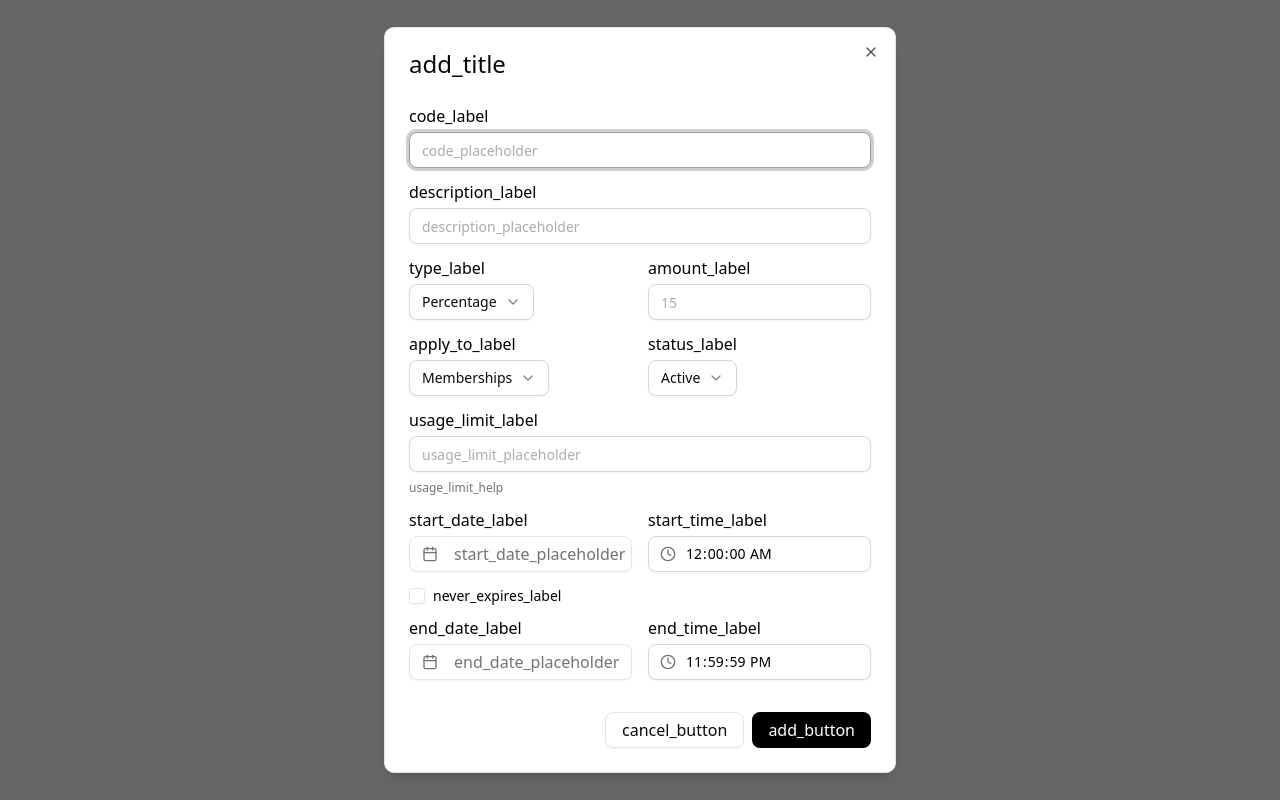
Test: AddEditCouponModal › Form validation › should show validation error when amount is empty
# Fill in other fields but leave amount empty
In the field with test id "coupon-code-input": (640, 150) top-left (409, 132), bottom-right (871, 168), type "CODE123"
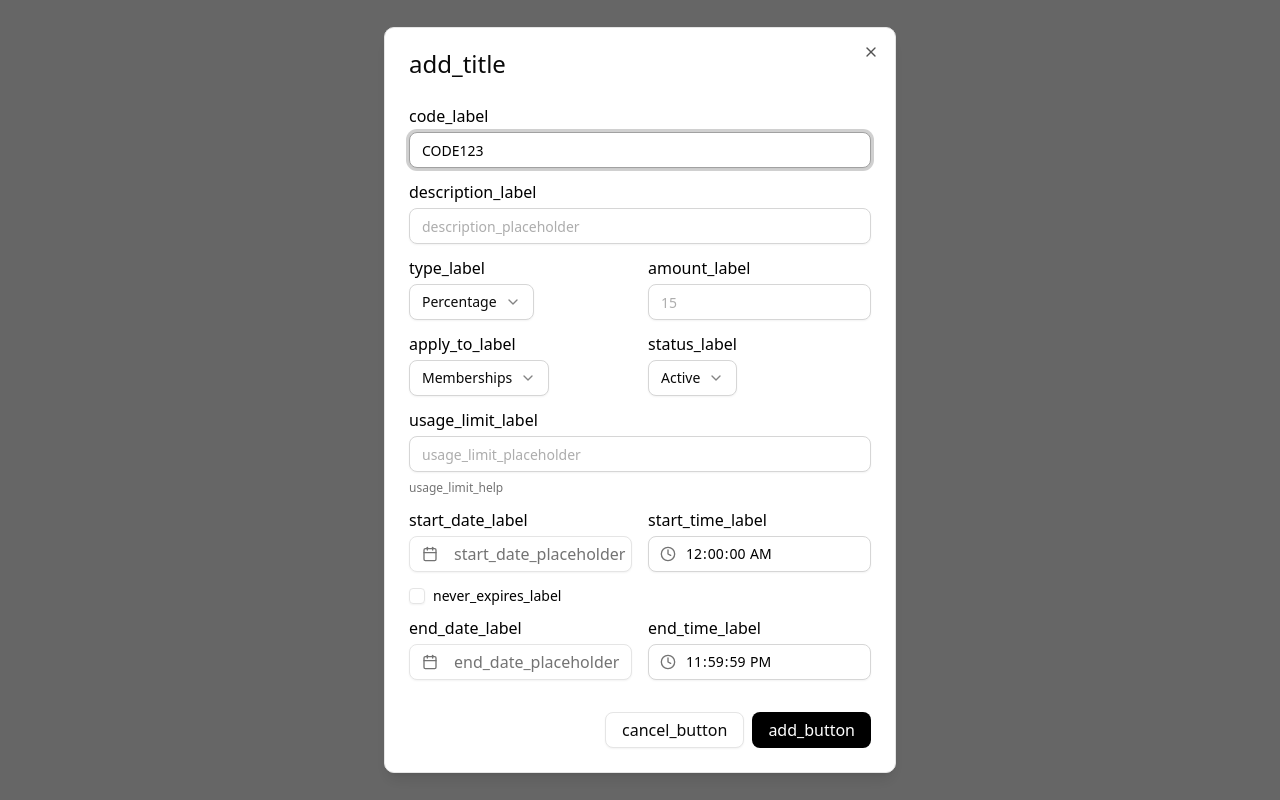
In the field with test id "coupon-description-input": (640, 226) top-left (409, 208), bottom-right (871, 244), type "Description"
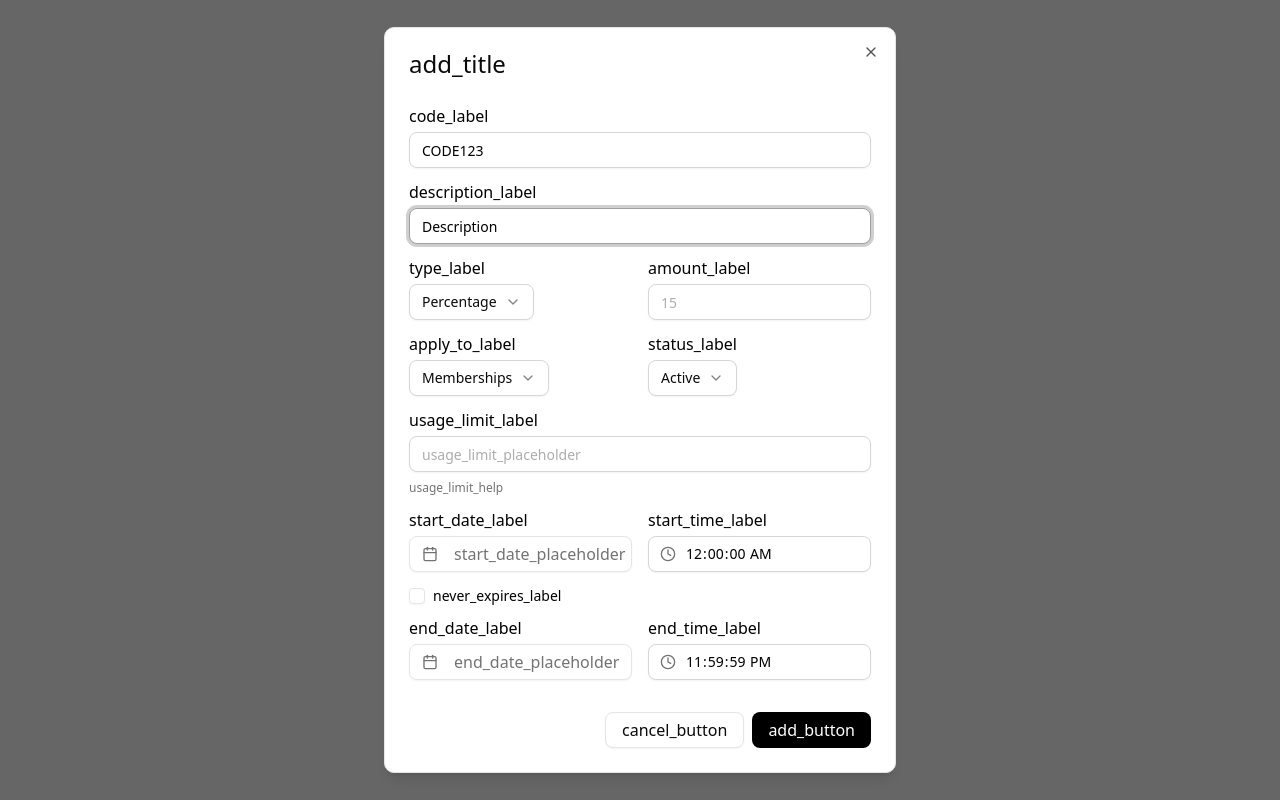
# Check never expires to skip end date validation
Click the checkbox with test id "coupon-never-expires-checkbox": (417, 596) top-left (409, 588), bottom-right (425, 604)
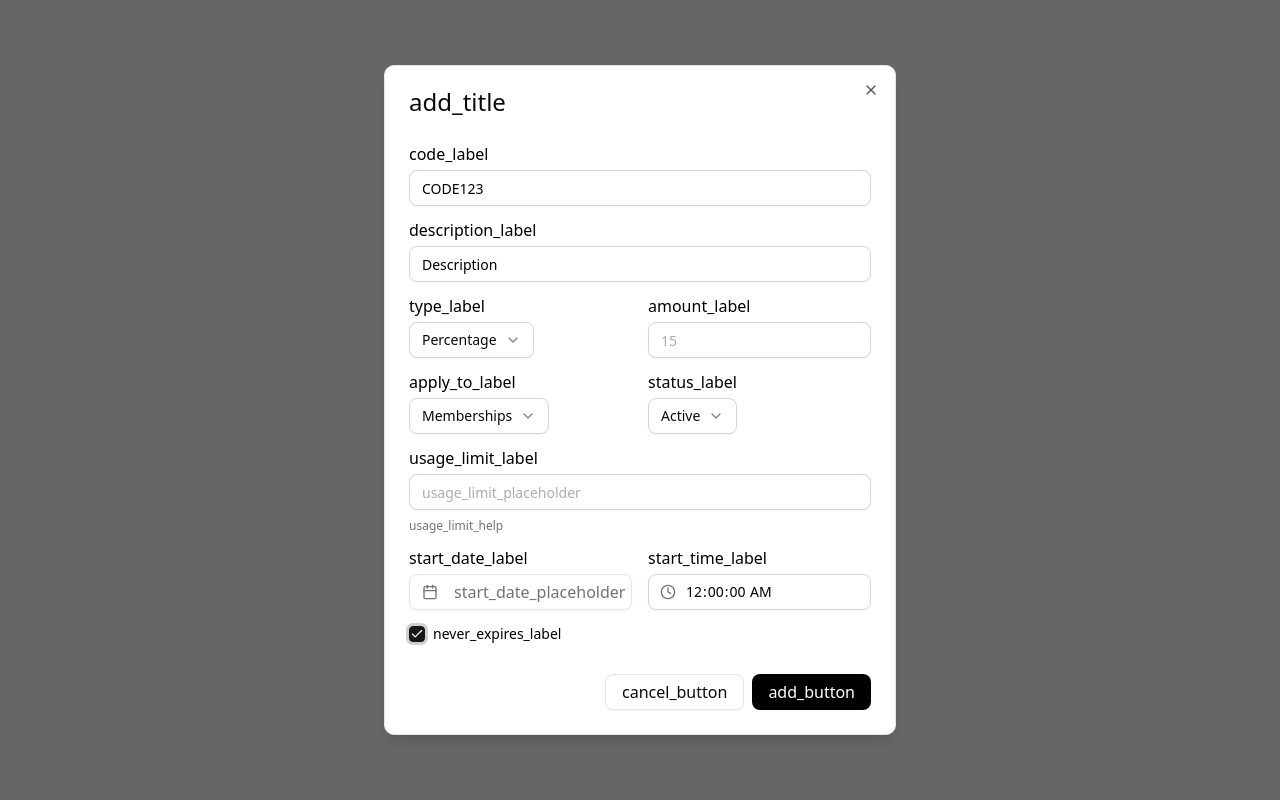
# Submit the form
Click the button "add_button": (812, 692) top-left (752, 674), bottom-right (871, 710)
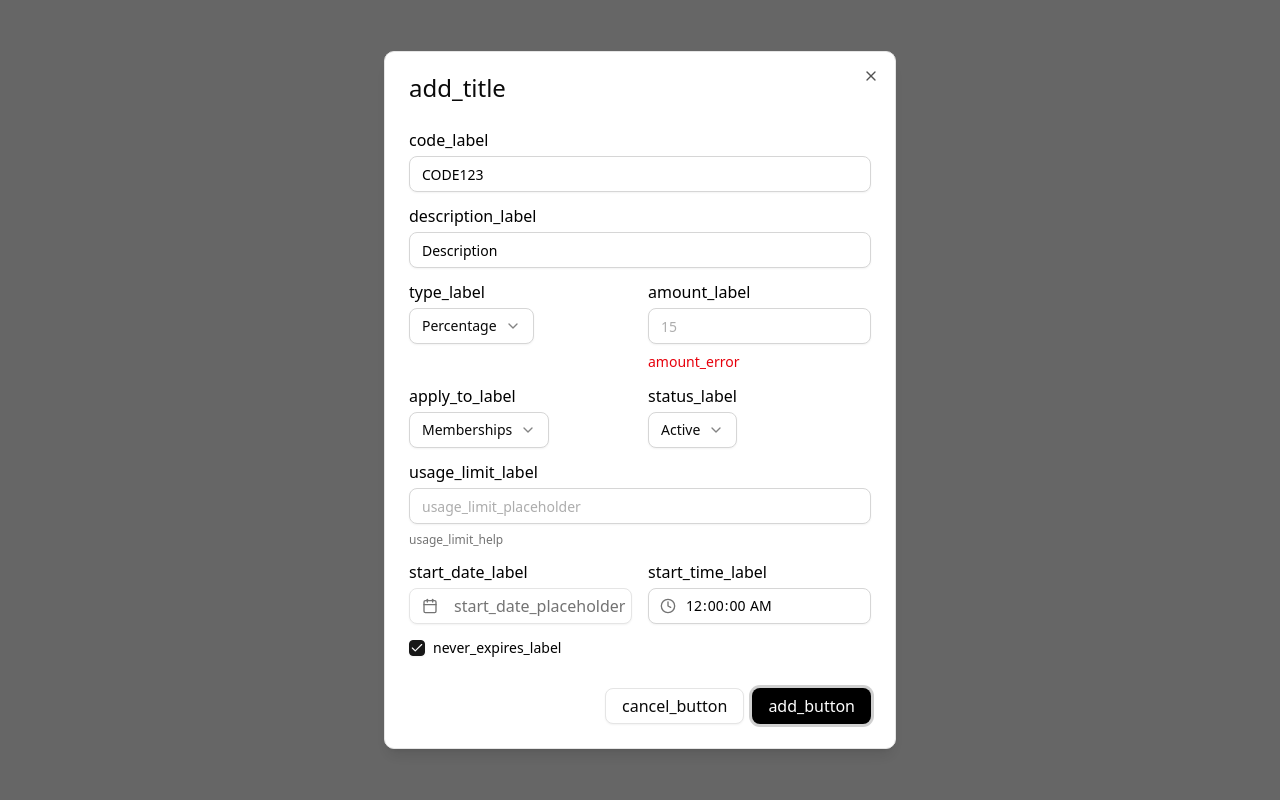
Expected: the text "amount_error" is shown, top-left (648, 352), bottom-right (739, 371)
